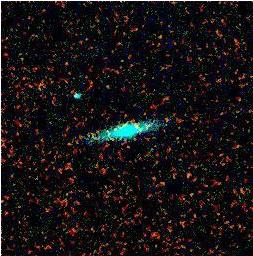star: (27, 192, 57, 222)
